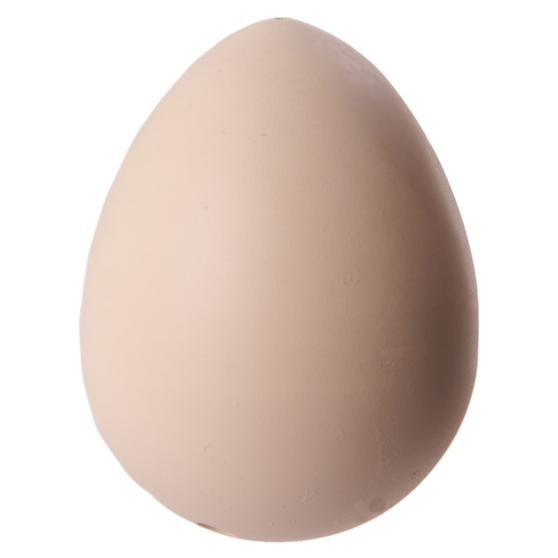egg: (83, 17, 481, 547)
